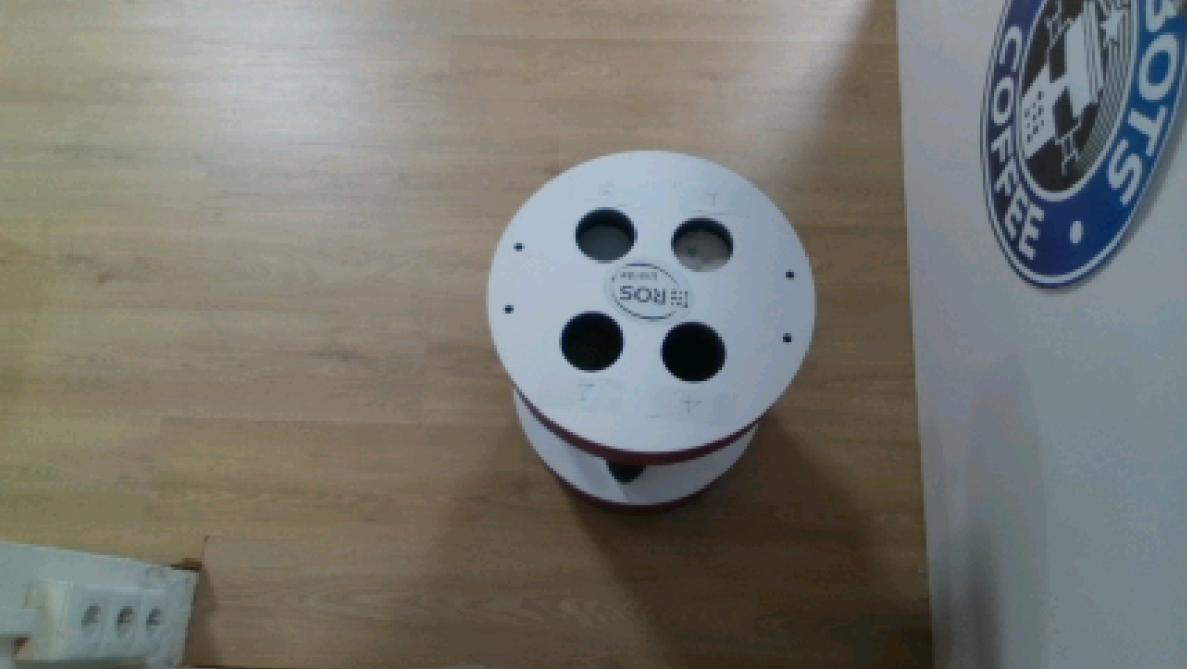hole: (660, 318, 730, 386), (557, 310, 628, 374), (573, 204, 641, 266), (668, 215, 737, 274)
